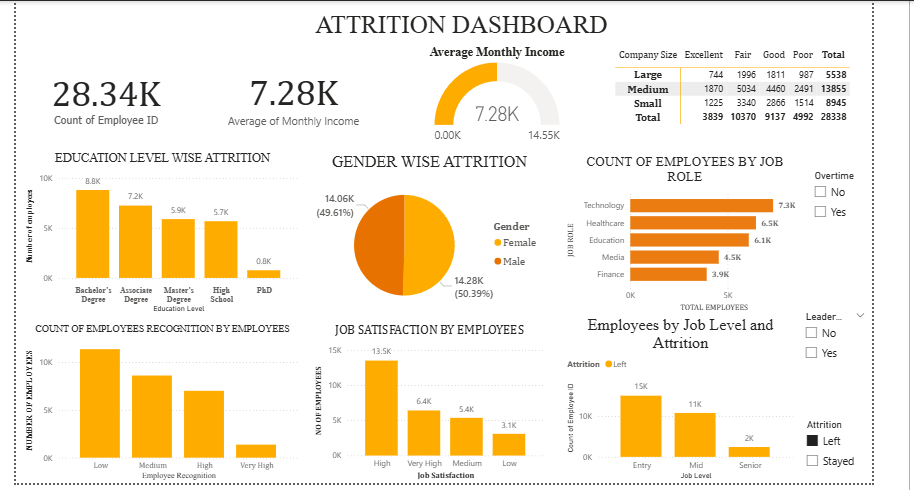

The dashboard page shown, as its layout file describes it:
{"tool":"powerbi","page":{"name":"Page 1","canvas":[1280,720],"ordinal":0},"visuals":[{"type":"textbox","box":[10.5,0,1269.7,65.7],"z":0},{"type":"card","fields":{"Values":["CountNonNull(train.Employee ID)"]},"box":[26.9,65.7,215.1,155.4],"z":1000},{"type":"card","fields":{"Values":["Avg(train.Monthly Income)"]},"box":[307.7,65.7,213.6,155.4],"z":2000},{"type":"clusteredColumnChart","title":"EDUCATION LEVEL WISE ATTRITION","fields":{"Category":["train.Education Level"],"Y":["CountNonNull(train.Attrition)"]},"box":[10.1,221.7,416.6,248.6],"z":3000},{"type":"pieChart","title":"GENDER WISE ATTRITION","fields":{"Category":["train.Gender"],"Y":["CountNonNull(train.Attrition)"]},"box":[442.2,227.1,351,249.5],"z":4000},{"type":"gauge","title":"Average Monthly Income","fields":{"Y":["Avg(train.Monthly Income)"]},"box":[587.1,65.7,262.9,155.4],"z":5000},{"type":"clusteredBarChart","title":"COUNT OF EMPLOYEES BY JOB ROLE","fields":{"Category":["train.Job Role"],"Y":["CountNonNull(train.Employee ID)"]},"box":[818.6,228.5,361.5,240.5],"z":6000},{"type":"columnChart","title":"COUNT OF EMPLOYEES RECOGNITION BY EMPLOYEES","fields":{"Category":["train.Employee Recognition"],"Y":["CountNonNull(train.Employee ID)"]},"box":[10.1,480.4,416.6,240.2],"z":7000},{"type":"columnChart","title":"JOB SATISFACTION BY EMPLOYEES","fields":{"Category":["train.Job Satisfaction"],"Y":["CountNonNull(train.Employee ID)"]},"box":[442.2,479.5,351,240.5],"z":8000},{"type":"pivotTable","fields":{"Columns":["train.Work-Life Balance"],"Rows":["train.Company Size"],"Values":["CountNonNull(train.Employee ID)"]},"box":[890.3,65.7,389.9,155.4],"z":9000},{"type":"clusteredColumnChart","title":"Employees by Job Level and Attrition","fields":{"Series":["train.Attrition"],"Category":["train.Job Level"],"Y":["CountNonNull(train.Employee ID)"]},"box":[818.6,470.5,348,249.5],"z":10000},{"type":"slicer","fields":{"Values":["train.Attrition"]},"box":[1168.1,619.9,112,95.6],"z":11000},{"type":"slicer","fields":{"Values":["train.Leadership Opportunities"]},"box":[1166.6,458.6,113.5,141.9],"z":12000},{"type":"slicer","fields":{"Values":["train.Overtime"]},"box":[1180.1,248,100.1,112],"z":13000}]}

Visuals, with their boxes on the page's 1280x720 design canvas (x1, y1, x2, y2). These are canvas units, not pixel positions in the 914x490 screenshot, which may show the page scaled, cropped or inside an application window:
textbox: [left=10, top=0, right=1280, bottom=66]
card - CountNonNull(train.Employee ID): [left=27, top=66, right=242, bottom=221]
card - Avg(train.Monthly Income): [left=308, top=66, right=521, bottom=221]
"EDUCATION LEVEL WISE ATTRITION" clusteredColumnChart: [left=10, top=222, right=427, bottom=470]
"GENDER WISE ATTRITION" pieChart: [left=442, top=227, right=793, bottom=477]
"Average Monthly Income" gauge: [left=587, top=66, right=850, bottom=221]
"COUNT OF EMPLOYEES BY JOB ROLE" clusteredBarChart: [left=819, top=228, right=1180, bottom=469]
"COUNT OF EMPLOYEES RECOGNITION BY EMPLOYEES" columnChart: [left=10, top=480, right=427, bottom=721]
"JOB SATISFACTION BY EMPLOYEES" columnChart: [left=442, top=480, right=793, bottom=720]
pivotTable - train.Work-Life Balance x train.Company Size: [left=890, top=66, right=1280, bottom=221]
"Employees by Job Level and Attrition" clusteredColumnChart: [left=819, top=470, right=1167, bottom=720]
slicer - train.Attrition: [left=1168, top=620, right=1280, bottom=716]
slicer - train.Leadership Opportunities: [left=1167, top=459, right=1280, bottom=600]
slicer - train.Overtime: [left=1180, top=248, right=1280, bottom=360]
